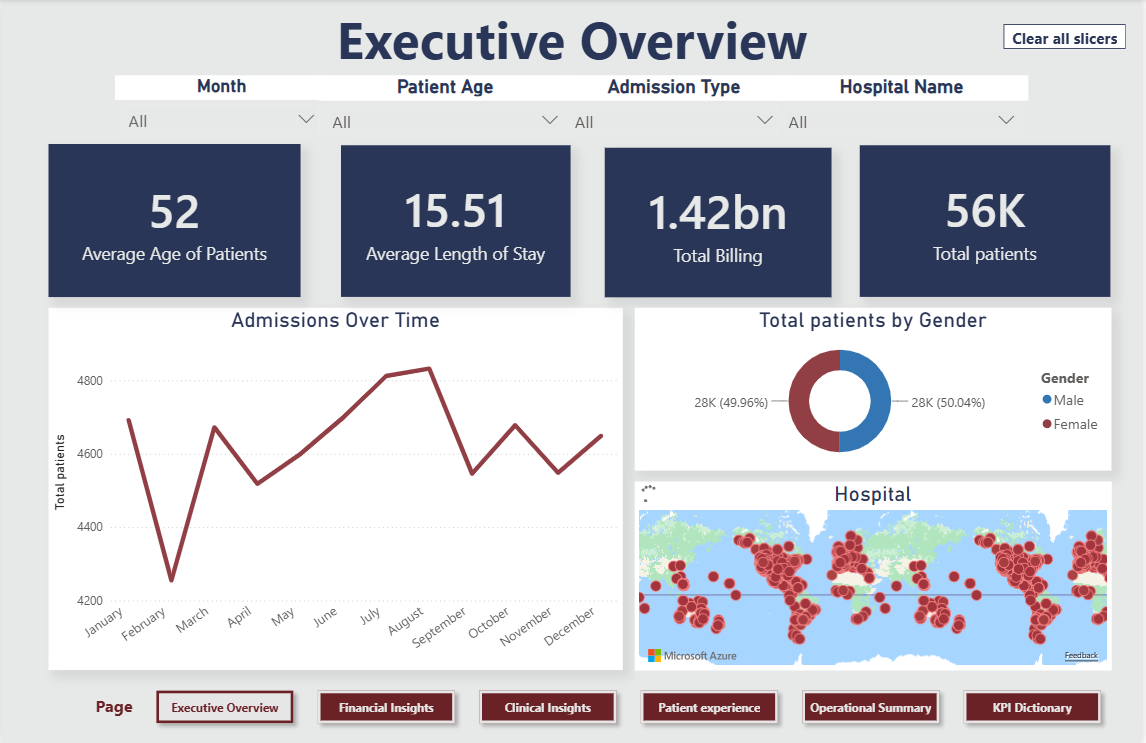

What the dashboard file says about the page in this screenshot:
{"tool":"powerbi","page":{"name":"Executive Overview","canvas":[1300,850],"ordinal":0},"visuals":[{"type":"cardVisual","title":"Total Patients","fields":{"Data":["healthcare_dataset.Total patients"]},"box":[978.6,167.1,285.7,172.9],"z":0},{"type":"lineChart","title":"Admissions Over Time","fields":{"Category":["healthcare_dataset.Date of Admission.Variation.Date Hierarchy.Month"],"Y":["healthcare_dataset.Total patients"]},"box":[54.3,351.4,654.3,412.9],"z":1000},{"type":"cardVisual","title":"Total Patients","fields":{"Data":["healthcare_dataset.Total Billing"]},"box":[688.6,170,258.6,170],"z":2000},{"type":"cardVisual","title":"Total Patients","fields":{"Data":["healthcare_dataset.Average Length of Stay"]},"box":[387.1,167.1,261.4,172.9],"z":3000},{"type":"cardVisual","title":"Total Patients","fields":{"Data":["healthcare_dataset.Average Age"]},"box":[54.3,165.7,287.1,174.3],"z":4000},{"type":"donutChart","fields":{"Category":["healthcare_dataset.Gender"],"Y":["healthcare_dataset.Total patients"]},"box":[721.4,351.4,542.9,185.7],"z":5000},{"type":"azureMap","fields":{"Category":["healthcare_dataset.Hospital"]},"box":[721.4,550,542.9,214.3],"z":6000},{"type":"textbox","box":[365.7,0,570,112.9],"z":7000},{"type":"slicer","title":"Admission Type","fields":{"Values":["healthcare_dataset.Admission Type"]},"box":[638.1,86.9,257.8,81.2],"z":8000},{"type":"slicer","title":"Hospital Name","fields":{"Values":["healthcare_dataset.Hospital"]},"box":[881.6,86.9,289.1,81.2],"z":9000},{"type":"slicer","title":"Patient Age","fields":{"Values":["healthcare_dataset.Age"]},"box":[361.8,86.9,289.1,81.2],"z":10000},{"type":"pageNavigator","box":[168.1,779.1,1096.7,55.5],"z":11000},{"type":"textbox","box":[102.9,787.1,54.3,41.4],"z":12000},{"type":"actionButton","box":[1142.3,28.5,139.6,28.5],"z":13000},{"type":"slicer","title":"Month","fields":{"Values":["healthcare_dataset.Date of Admission.Variation.Date Hierarchy.Month"]},"box":[129.6,86.9,243.6,68.4],"z":14000}]}

Visuals, with their boxes in screenshot pixels (x1, y1, x2, y2), scaled from the page's 1300x850 canvas onto the 1146x743 screenshot:
"Total Patients" cardVisual: {"x1": 863, "y1": 146, "x2": 1115, "y2": 297}
"Admissions Over Time" lineChart: {"x1": 48, "y1": 307, "x2": 625, "y2": 668}
"Total Patients" cardVisual: {"x1": 607, "y1": 149, "x2": 835, "y2": 297}
"Total Patients" cardVisual: {"x1": 341, "y1": 146, "x2": 572, "y2": 297}
"Total Patients" cardVisual: {"x1": 48, "y1": 145, "x2": 301, "y2": 297}
donutChart - healthcare_dataset.Gender x healthcare_dataset.Total patients: {"x1": 636, "y1": 307, "x2": 1115, "y2": 469}
azureMap - healthcare_dataset.Hospital: {"x1": 636, "y1": 481, "x2": 1115, "y2": 668}
textbox: {"x1": 322, "y1": 0, "x2": 825, "y2": 99}
"Admission Type" slicer: {"x1": 563, "y1": 76, "x2": 790, "y2": 147}
"Hospital Name" slicer: {"x1": 777, "y1": 76, "x2": 1032, "y2": 147}
"Patient Age" slicer: {"x1": 319, "y1": 76, "x2": 574, "y2": 147}
pageNavigator: {"x1": 148, "y1": 681, "x2": 1115, "y2": 730}
textbox: {"x1": 91, "y1": 688, "x2": 139, "y2": 724}
actionButton: {"x1": 1007, "y1": 25, "x2": 1130, "y2": 50}
"Month" slicer: {"x1": 114, "y1": 76, "x2": 329, "y2": 136}
